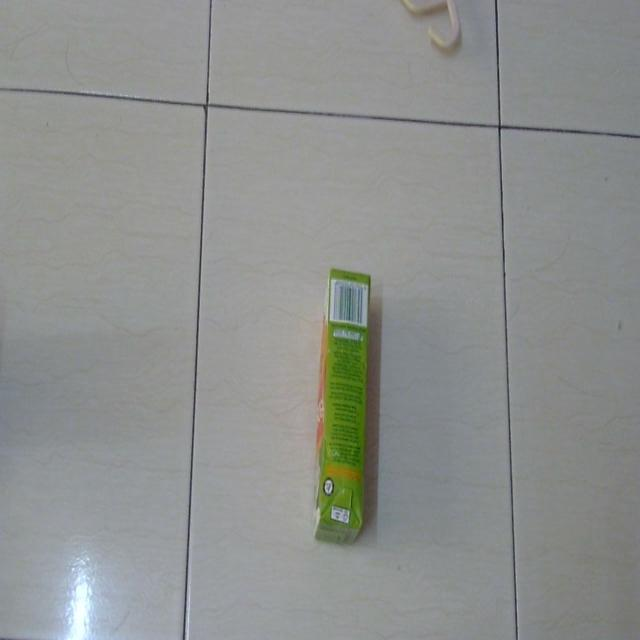plastic_laydown_90rotation: (305, 256, 386, 557)
